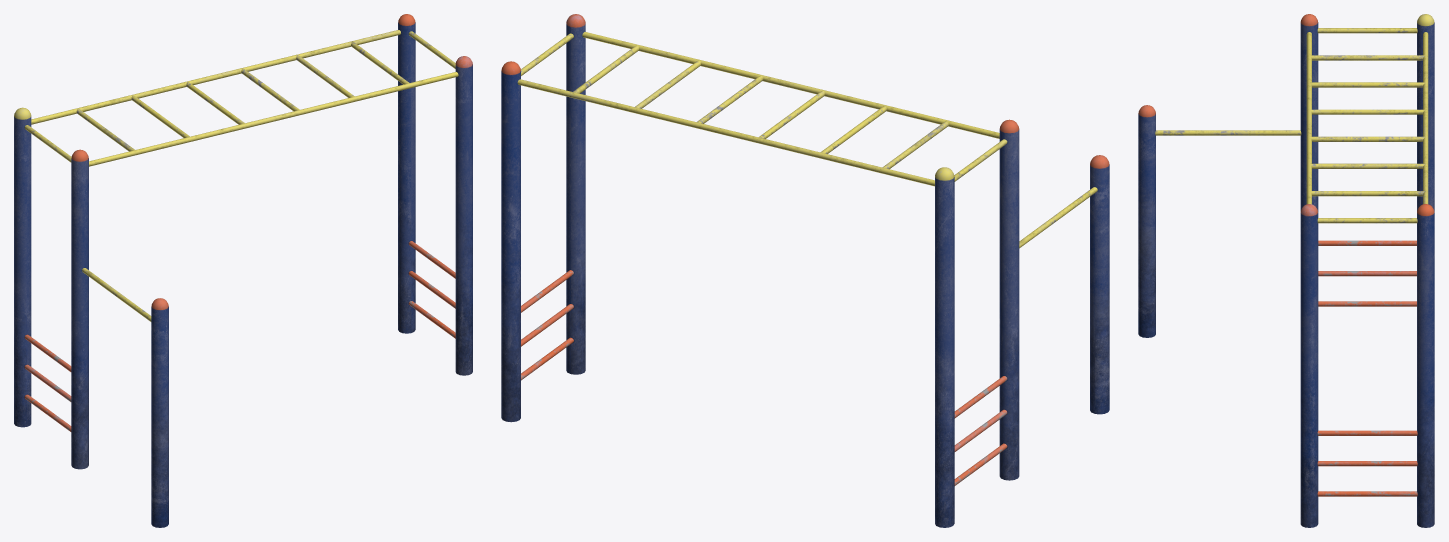
Rendered from monkeyBars.glb.
3 renders of one model, left to right at view 1: azimuth 30°, elevation 25°; view 2: azimuth 150°, elevation 25°; view 3: azimuth 270°, elevation 25°, orthographic. The views are drawn at different scales.
Visible parts, largest first — view 1: monkey_bar_LOD_0; view 2: monkey_bar_LOD_0; view 3: monkey_bar_LOD_0.
Boxes of the visible parts, left/top/right/bottom form: monkey_bar_LOD_0: left=14, top=14, right=472, bottom=527; monkey_bar_LOD_0: left=501, top=14, right=1109, bottom=527; monkey_bar_LOD_0: left=1138, top=14, right=1434, bottom=527.
Size of what is drawn, in the model's own units: 2.65 by 2 by 1.68.
1 material, 1 textured.
